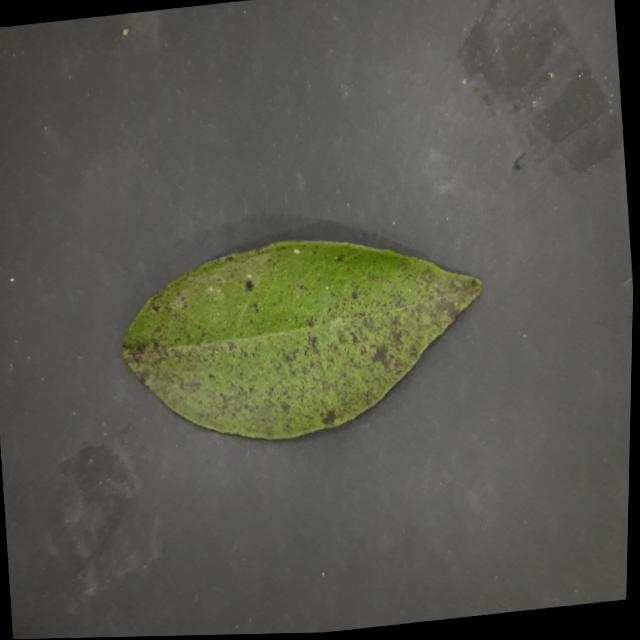greasy_spot: (122, 241, 481, 439)
